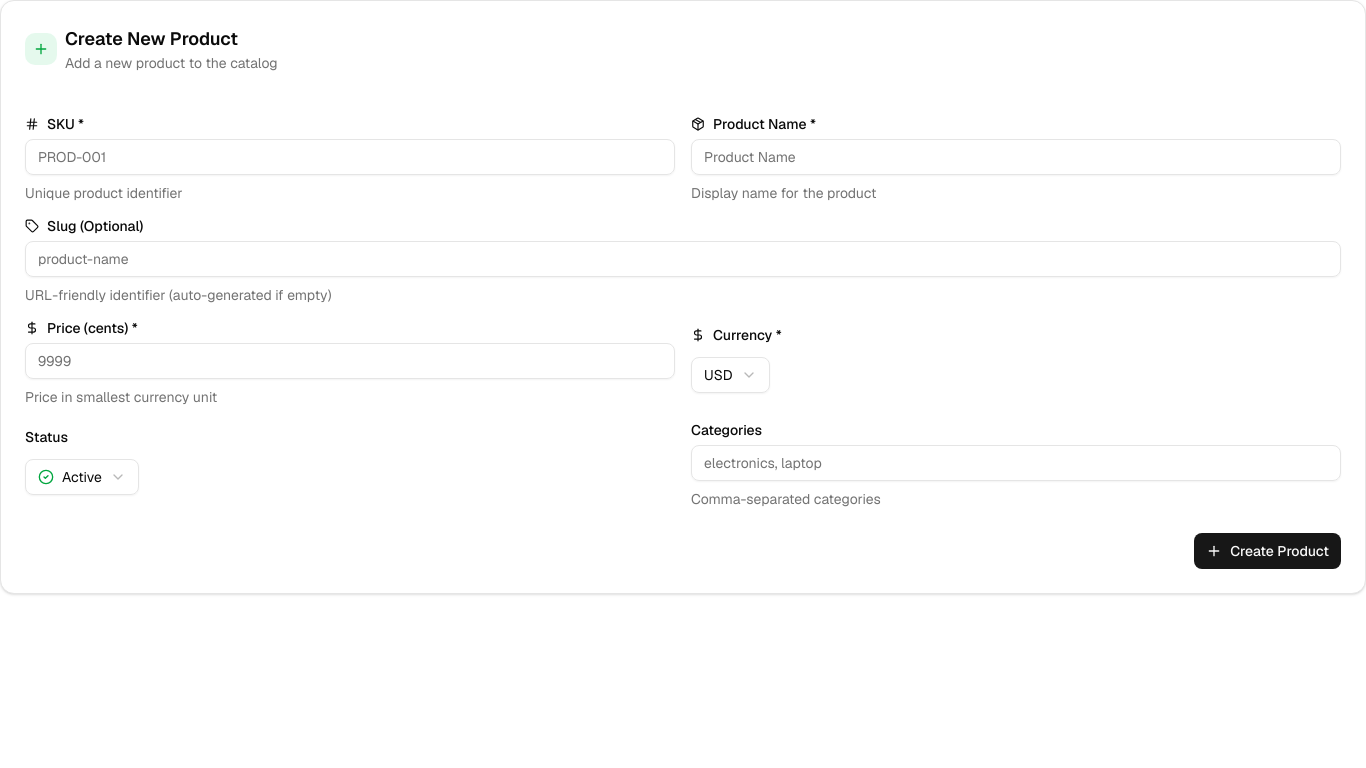
Test case: CreateProductForm › shows field errors for required inputs
The image size is (1366, 768).
Click the button "Create Product": (1268, 551) [1194, 533, 1341, 569]
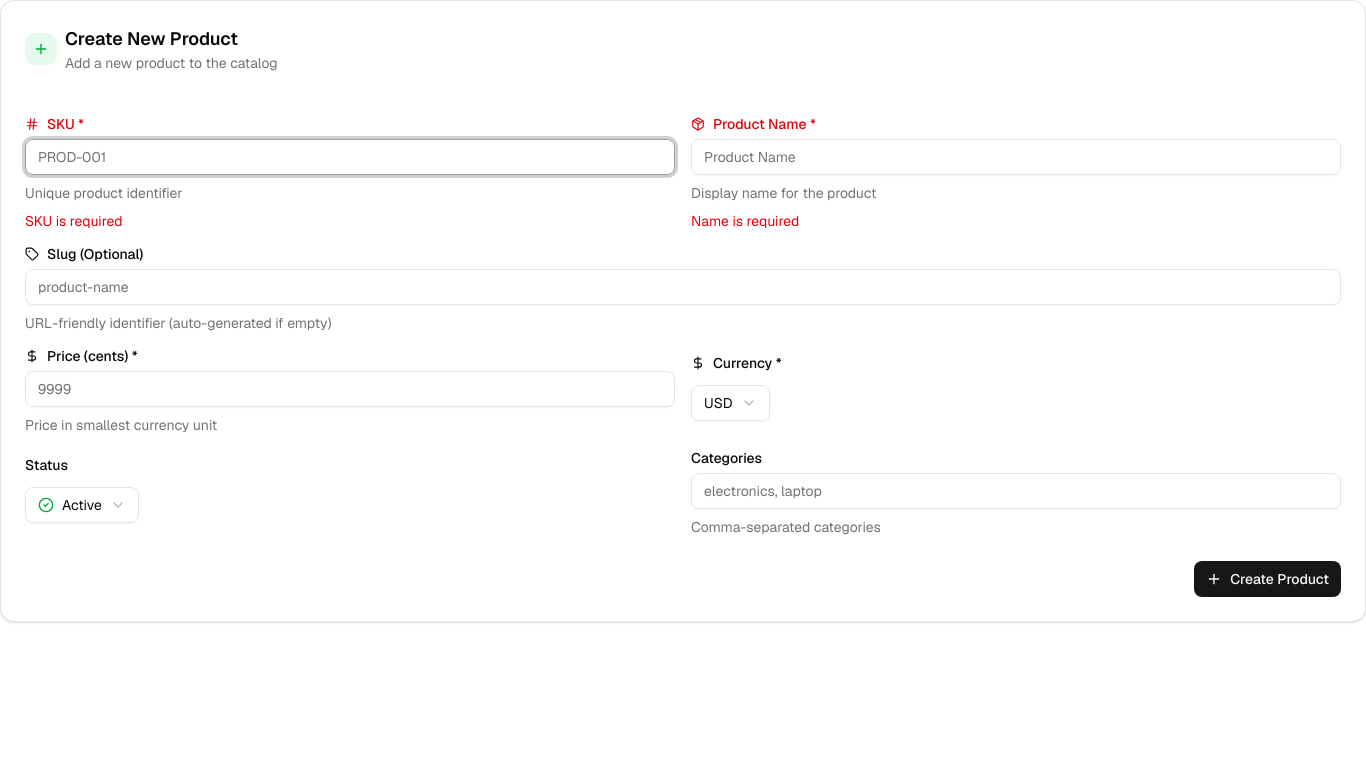
Check: the text "SKU is required" is shown 2 times, box [25, 212, 123, 230]; [691, 212, 799, 230]
